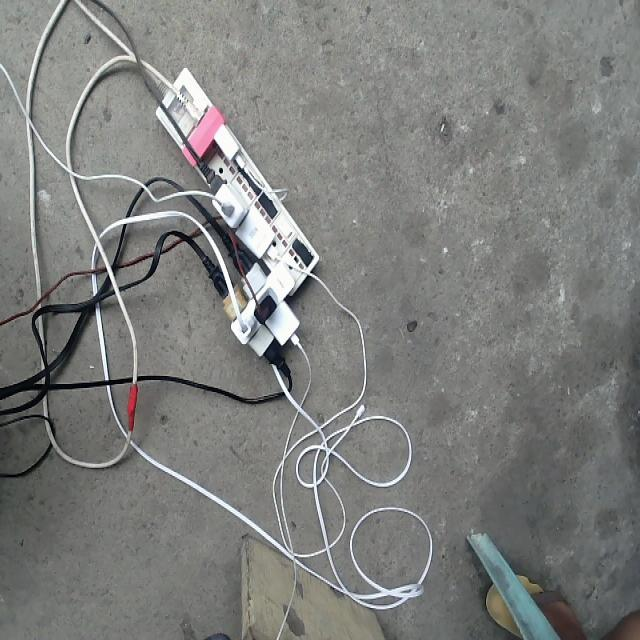-: (154, 65, 318, 376)
